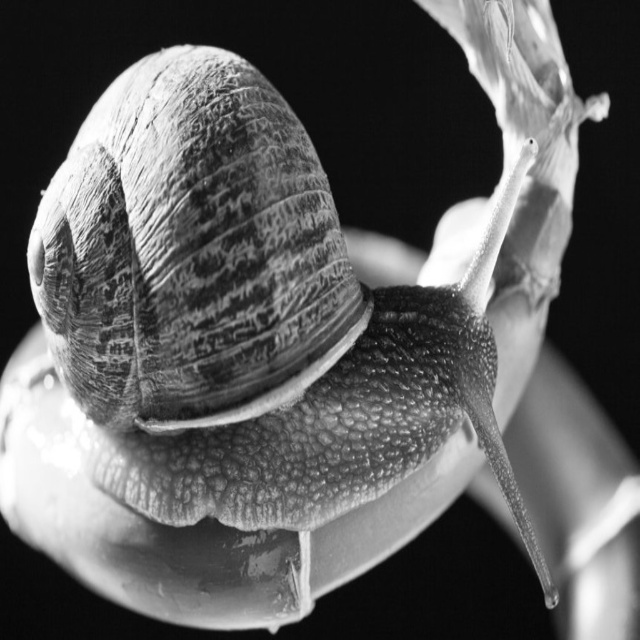Snail: (0, 41, 561, 629)
